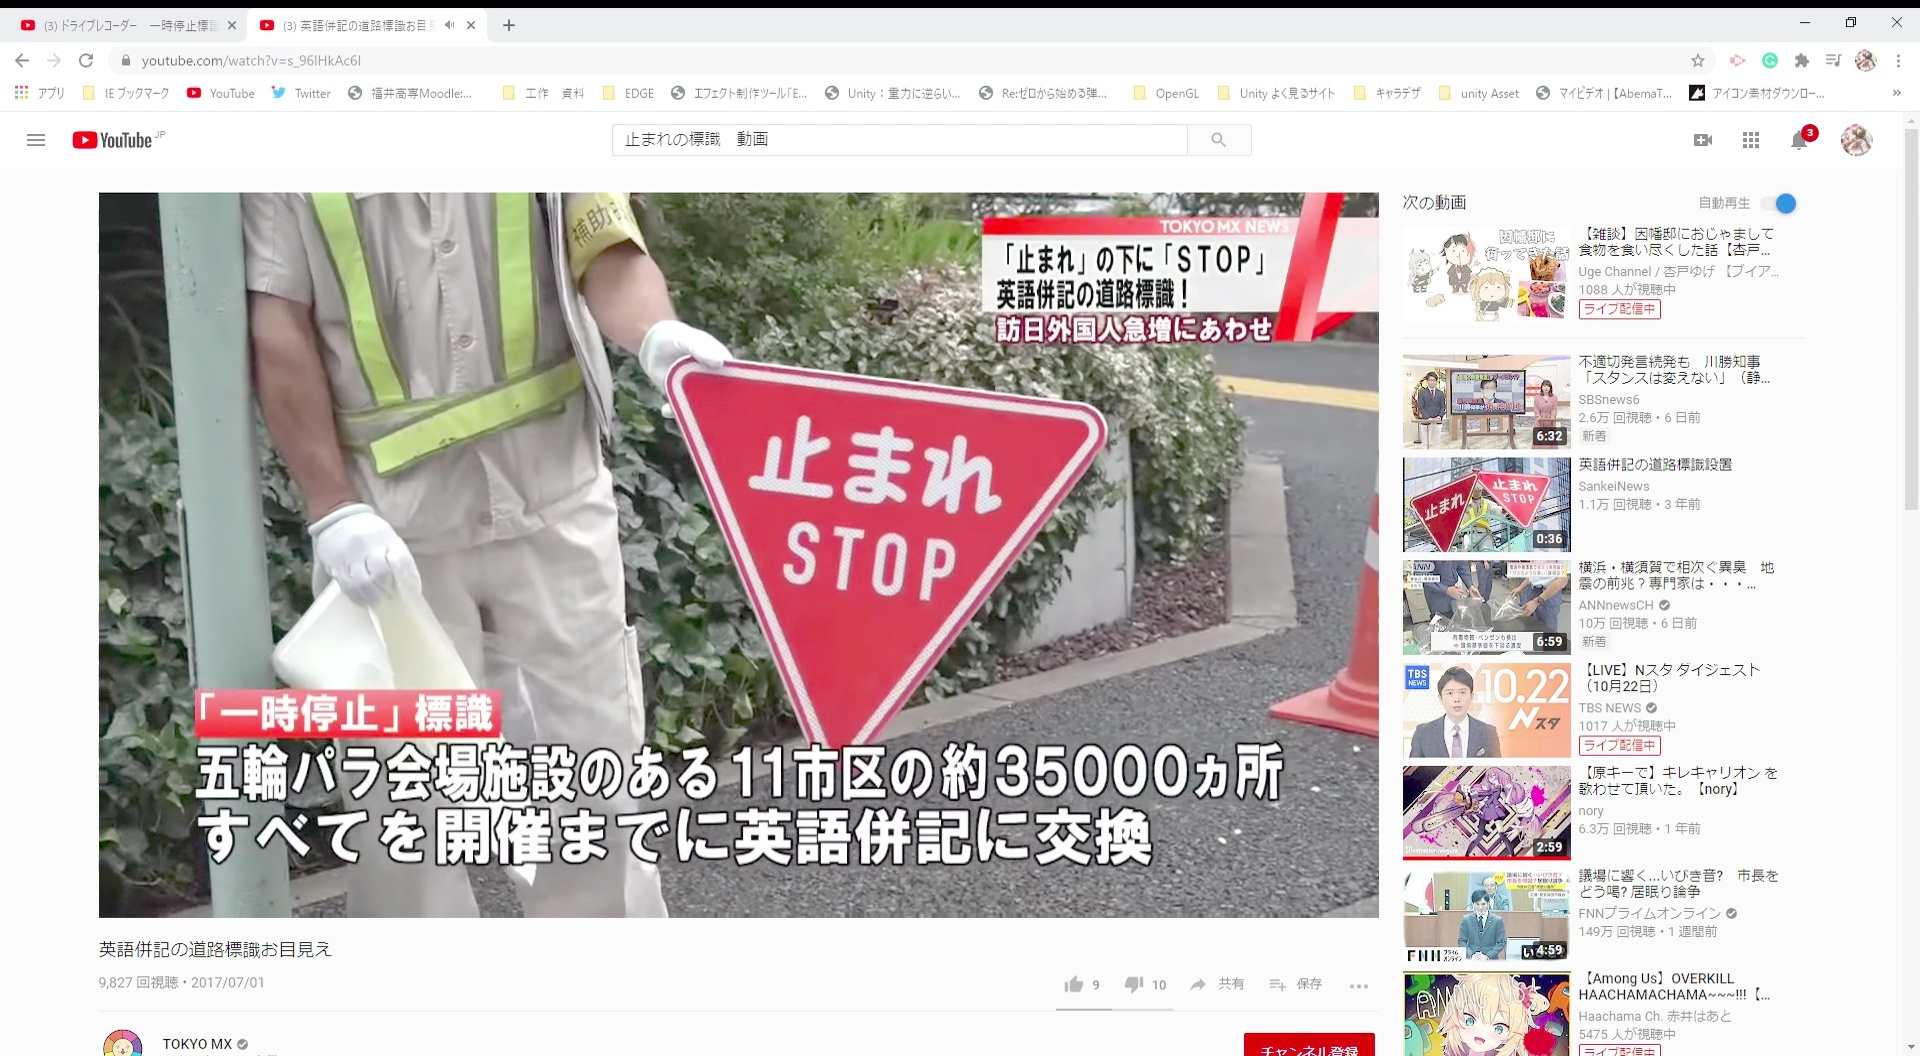Regulatory_sign_triangle: (646, 336, 1134, 789)
